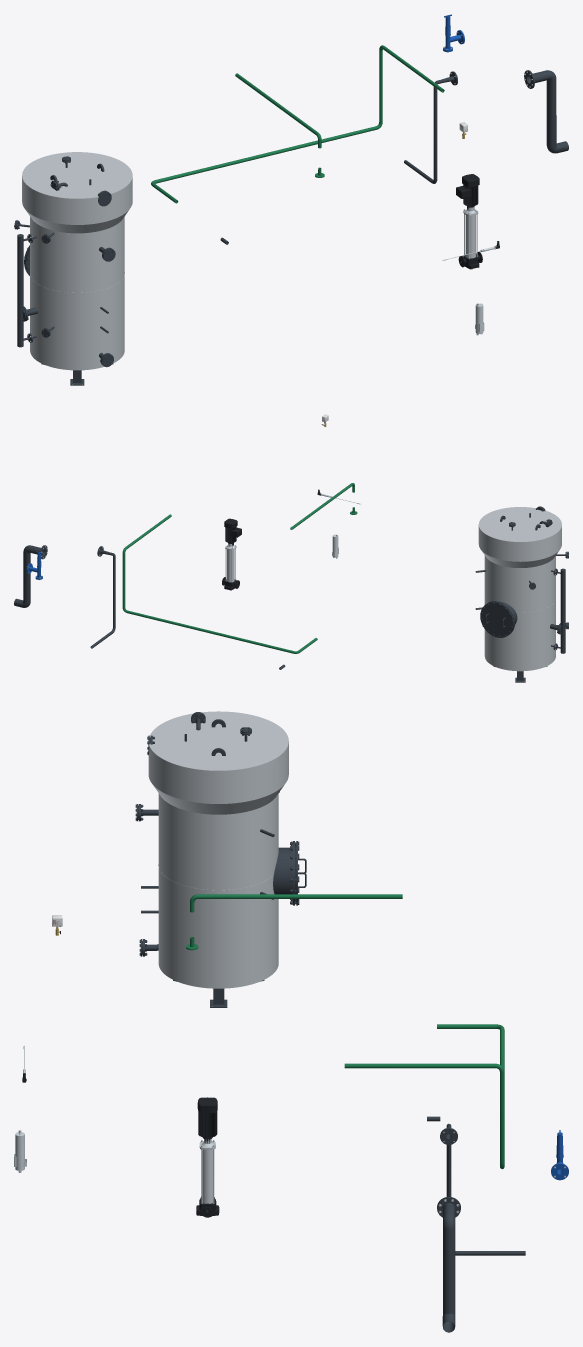
File: s4000-1-NvUVGYsd.glb
The picture shows the model from 3 angles, top to bottom: view 1: azimuth 30°, elevation 25°; view 2: azimuth 150°, elevation 25°; view 3: azimuth 270°, elevation 25°; orthographic projection. The views are drawn at different scales.
Visible parts, largest first — view 1: deaerator / shell, to_economizer / green, bdv_water_drain / dark, deaerator / dark, bottom_to_bdv / dark, pump_1 CAD solid 15, pump_1 CAD solid 2; view 2: deaerator / shell, to_economizer / green, DA3 CAD 76, bdv_water_drain / dark, deaerator / dark, bottom_to_bdv / dark; view 3: deaerator / shell, to_economizer / green, bdv_water_drain / dark, direct_inlet / green, bottom_to_bdv / dark, DA3 CAD 11, pump_1 CAD solid 15.
Boxes of the visible parts, bbox=[...] form: deaerator / shell: bbox=[22, 152, 132, 370]; to_economizer / green: bbox=[151, 45, 444, 203]; bdv_water_drain / dark: bbox=[524, 70, 568, 153]; deaerator / dark: bbox=[17, 234, 36, 347]; bottom_to_bdv / dark: bbox=[404, 71, 457, 183]; pump_1 CAD solid 15: bbox=[456, 174, 479, 206]; pump_1 CAD solid 2: bbox=[465, 215, 475, 258]; deaerator / shell: bbox=[478, 507, 561, 671]; to_economizer / green: bbox=[122, 514, 317, 653]; DA3 CAD 76: bbox=[480, 602, 513, 637]; bdv_water_drain / dark: bbox=[14, 545, 47, 607]; deaerator / dark: bbox=[551, 568, 565, 653]; bottom_to_bdv / dark: bbox=[90, 546, 115, 648]; deaerator / shell: bbox=[148, 711, 288, 988]; to_economizer / green: bbox=[344, 1024, 504, 1169]; bdv_water_drain / dark: bbox=[437, 1197, 460, 1332]; direct_inlet / green: bbox=[190, 894, 376, 912]; bottom_to_bdv / dark: bbox=[440, 1123, 525, 1255]; DA3 CAD 11: bbox=[273, 847, 292, 894]; pump_1 CAD solid 15: bbox=[197, 1097, 217, 1138].
Size of the model in its own units: 8.55 by 2.72 by 5.06.
